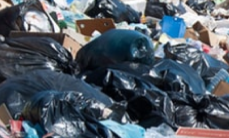garbage: (1, 3, 228, 138)
